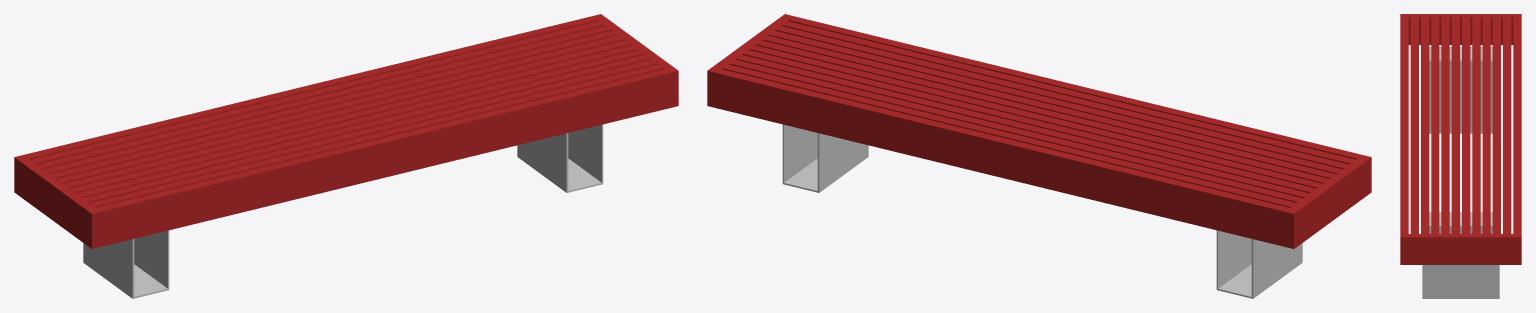
3 views of the same model, side by side, from view 1: azimuth 30°, elevation 25°; view 2: azimuth 150°, elevation 25°; view 3: azimuth 270°, elevation 25° (orthographic). The views are drawn at different scales.
Visible parts, largest first — view 1: mesh5_mesh5-geometry, mesh1_mesh1-geometry, mesh7_mesh7-geometry, mesh3_mesh3-geometry; view 2: mesh5_mesh5-geometry, mesh1_mesh1-geometry, mesh7_mesh7-geometry, mesh3_mesh3-geometry; view 3: mesh5_mesh5-geometry, mesh7_mesh7-geometry, mesh3_mesh3-geometry, mesh1_mesh1-geometry.
Part boxes in pixels (left/top/right/bottom): mesh5_mesh5-geometry: left=30, top=21, right=662, bottom=207; mesh1_mesh1-geometry: left=14, top=14, right=678, bottom=248; mesh7_mesh7-geometry: left=83, top=124, right=603, bottom=298; mesh3_mesh3-geometry: left=19, top=18, right=672, bottom=244; mesh5_mesh5-geometry: left=723, top=21, right=1355, bottom=207; mesh1_mesh1-geometry: left=707, top=14, right=1371, bottom=248; mesh7_mesh7-geometry: left=782, top=124, right=1302, bottom=298; mesh3_mesh3-geometry: left=713, top=18, right=1366, bottom=244; mesh5_mesh5-geometry: left=1410, top=17, right=1511, bottom=233; mesh7_mesh7-geometry: left=1422, top=47, right=1499, bottom=298; mesh3_mesh3-geometry: left=1408, top=14, right=1513, bottom=264; mesh1_mesh1-geometry: left=1400, top=14, right=1521, bottom=264.
Size of the model in its own units: 0.9605 by 0.1701 by 0.2201.
